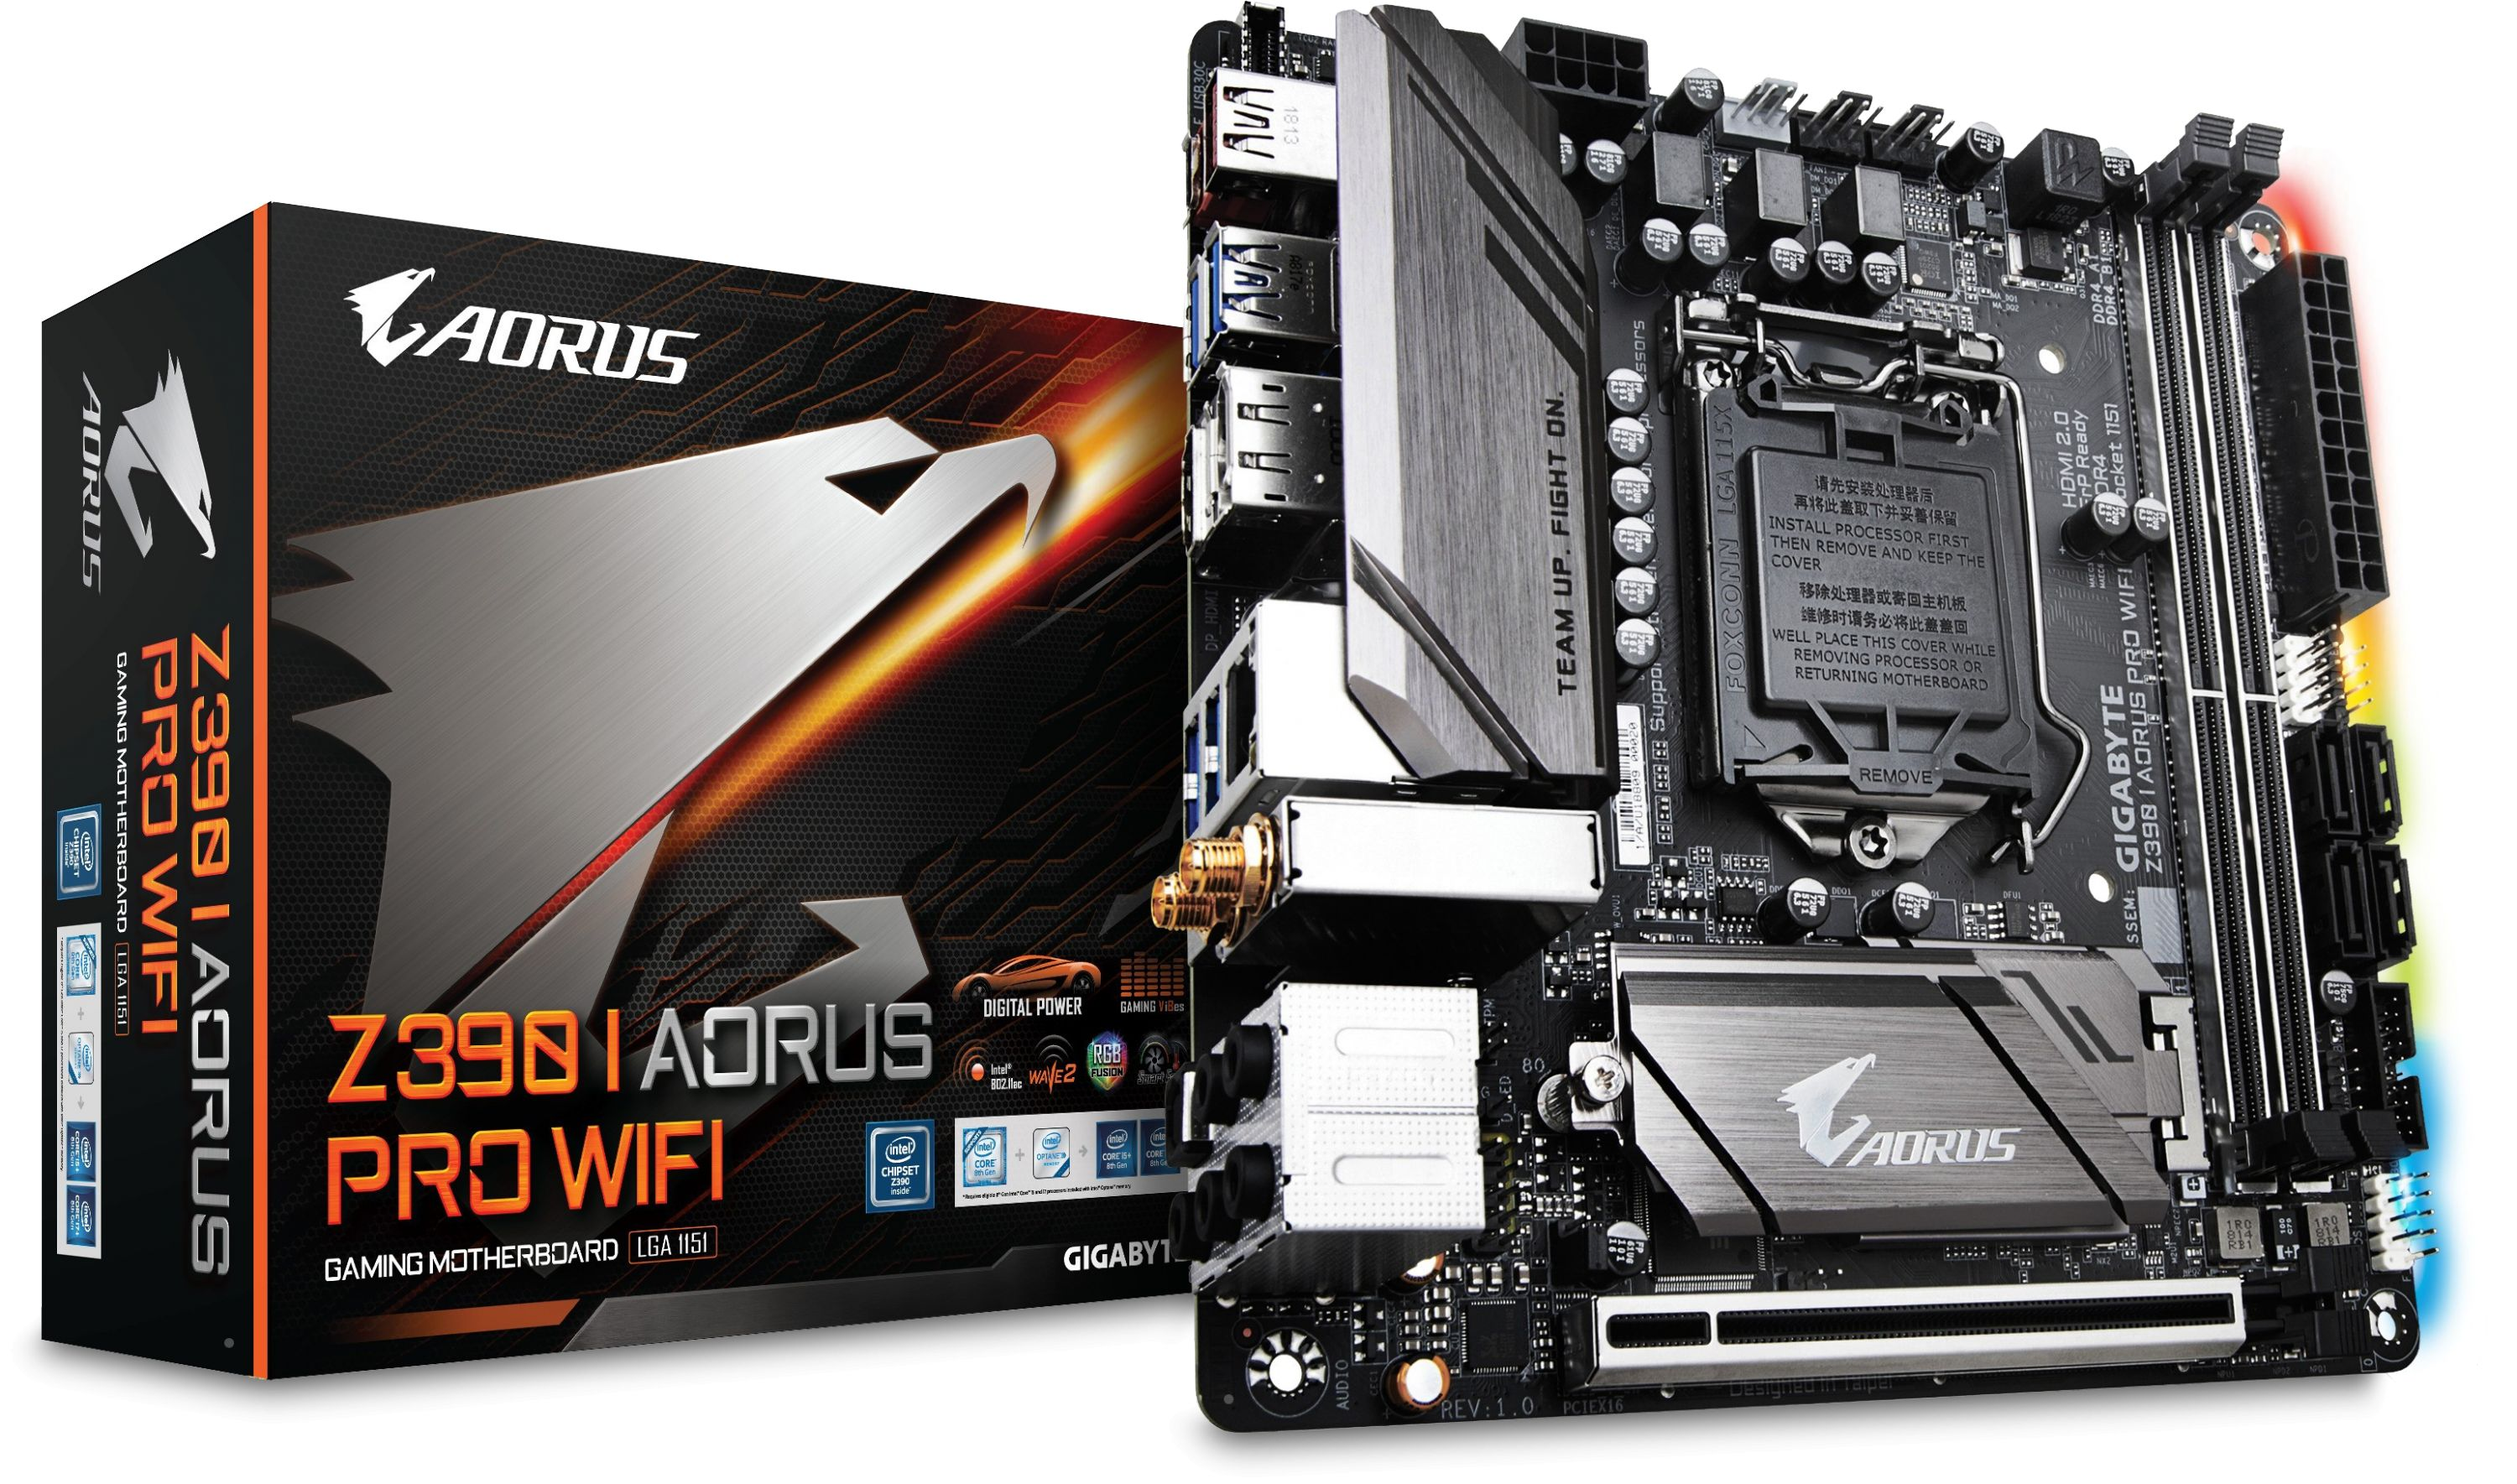Motherboard: (1189, 0, 2473, 1449)
